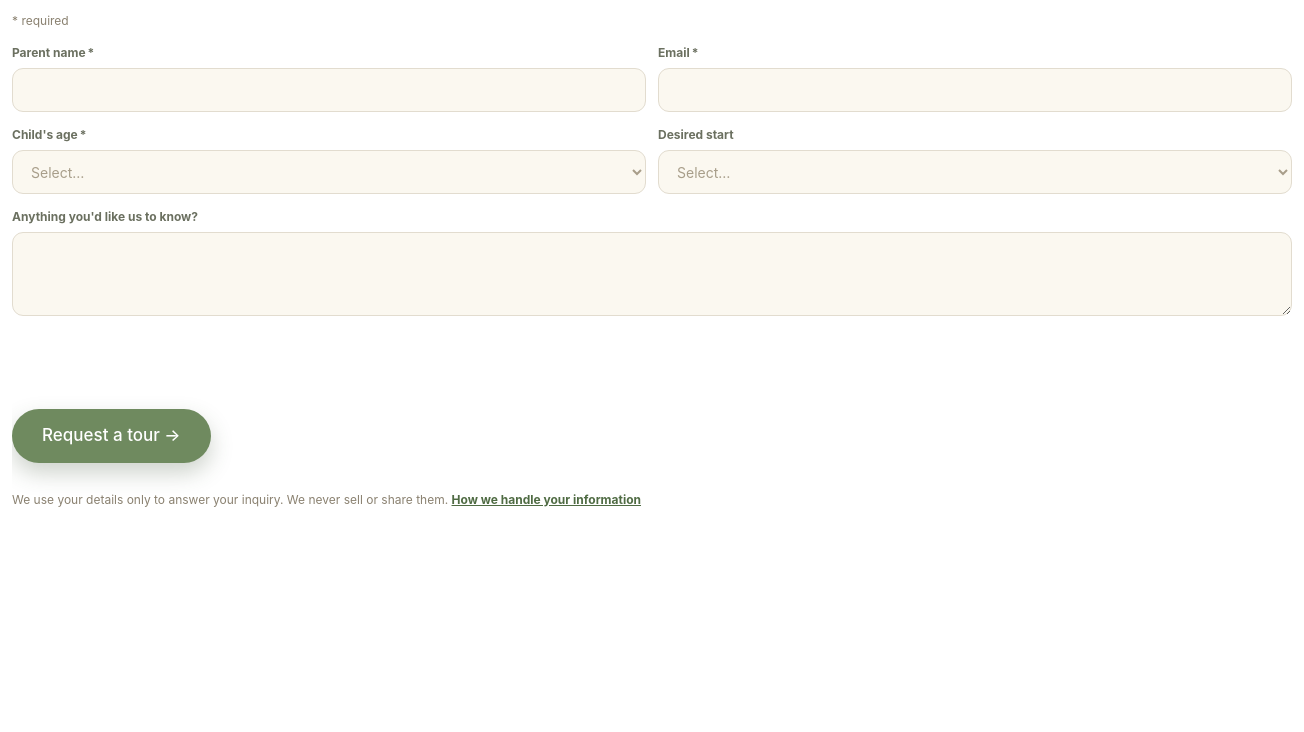
Test: validation (07 D-07.4) › clears the error as the parent fixes it
The image size is (1304, 732).
In the field labelled "Email*": (975, 90) [658, 68, 1292, 112], type "nope"
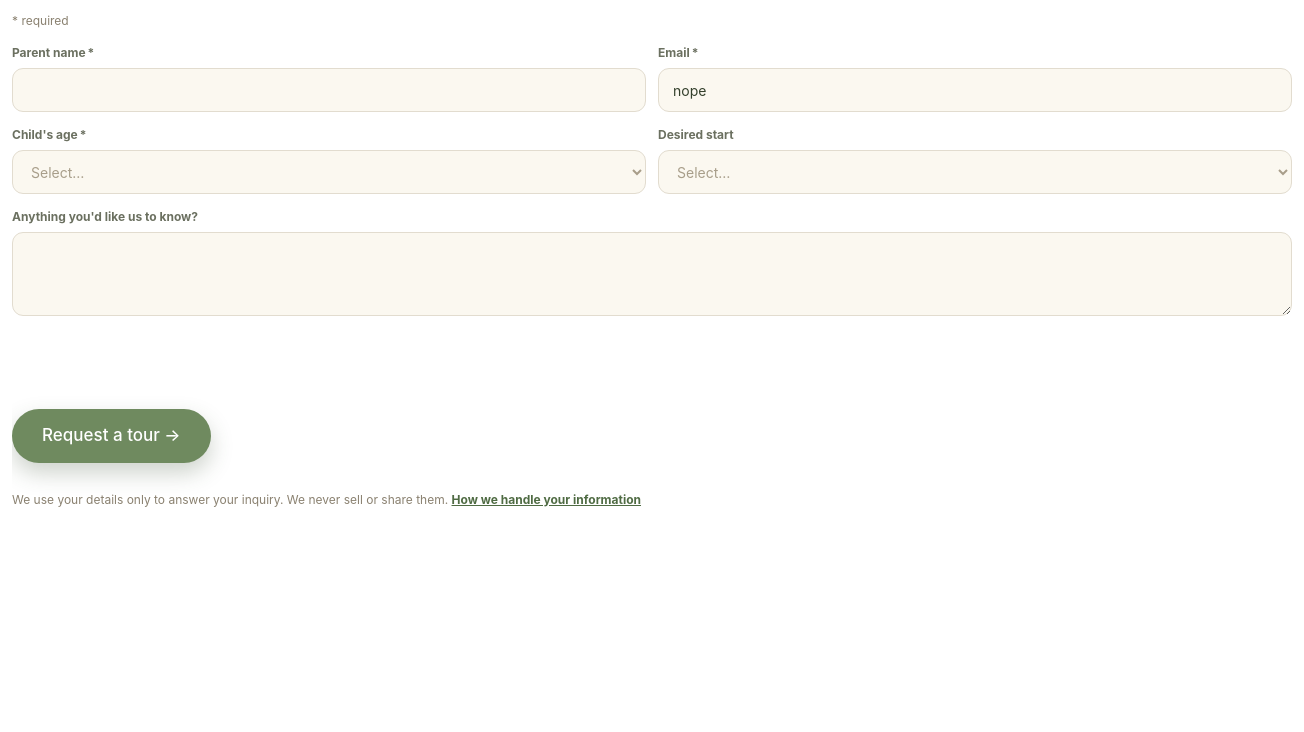
Leave the field labelled "Email*", box [658, 68, 1292, 112]
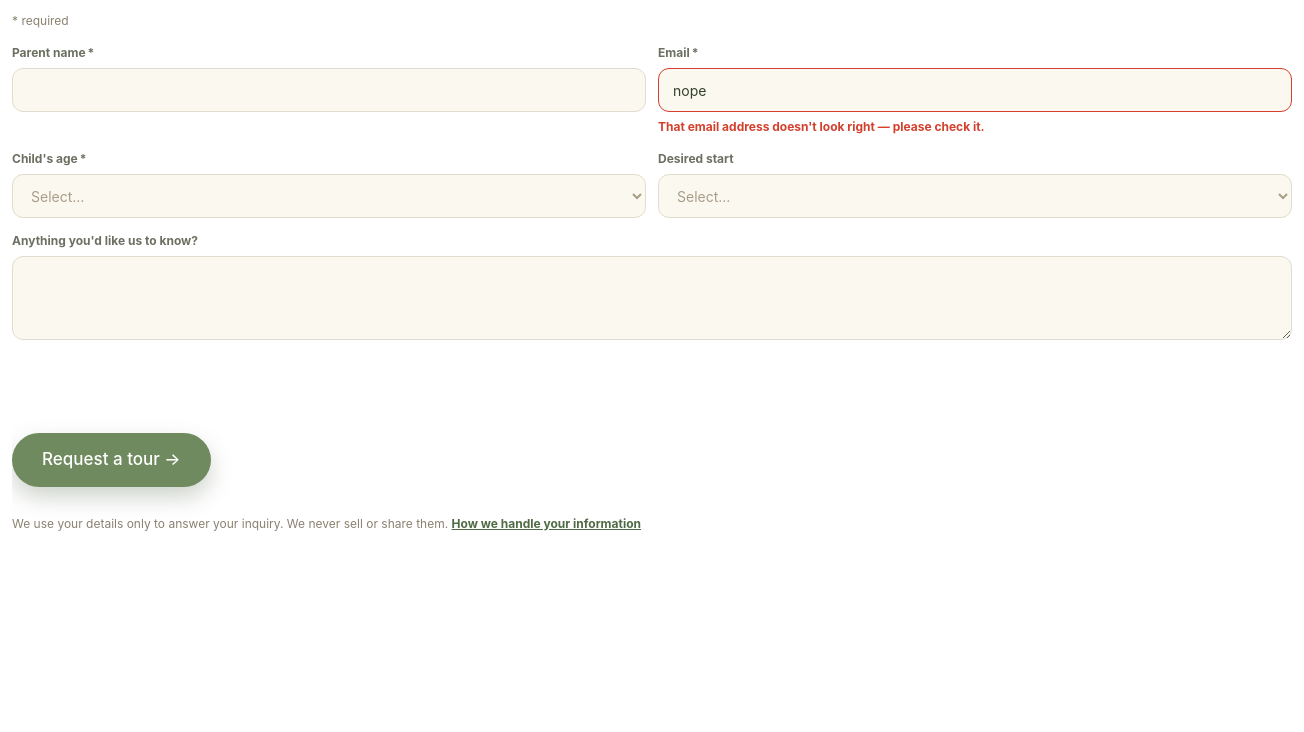
expect the text "That email address doesn't look right — please check it." is shown: met, box [658, 119, 985, 134]
Replace the text in the field labelled "Email*" with "wei@example.test": (975, 90) [658, 68, 1292, 112]
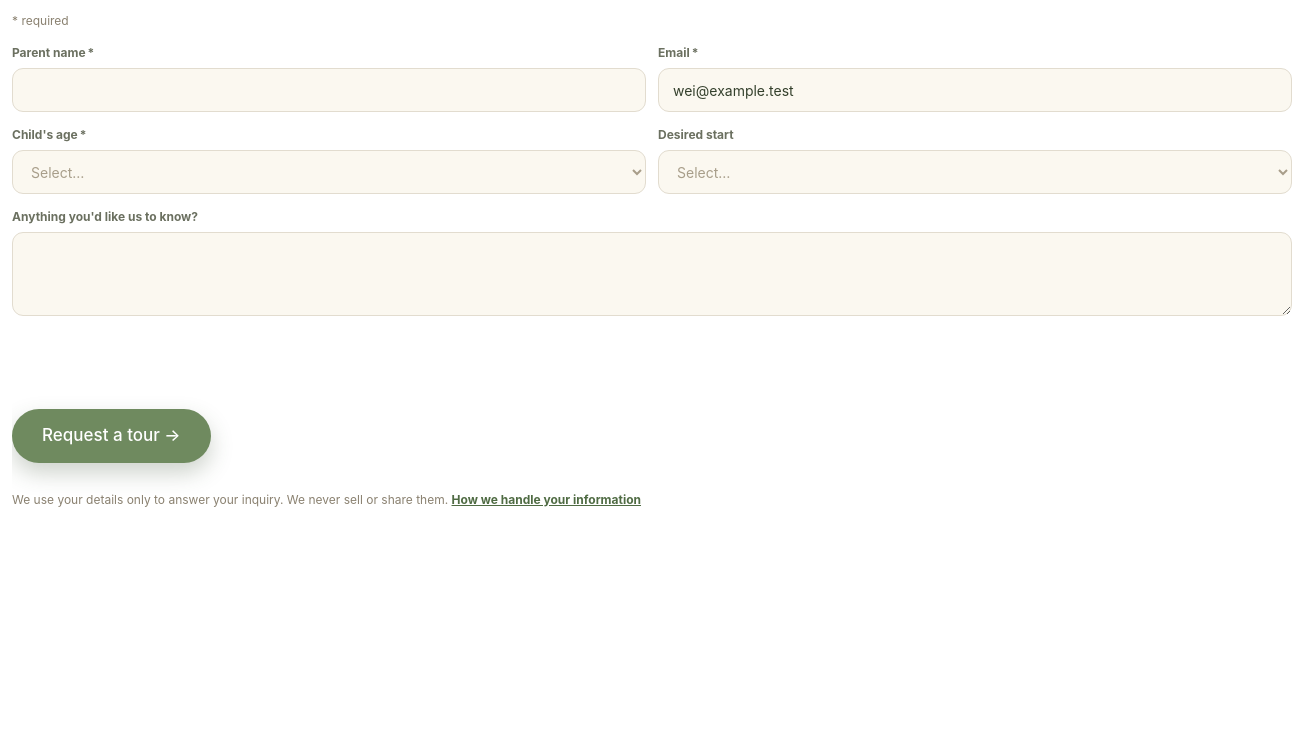
expect the text "That email address doesn't look right — please check it." is gone: met
